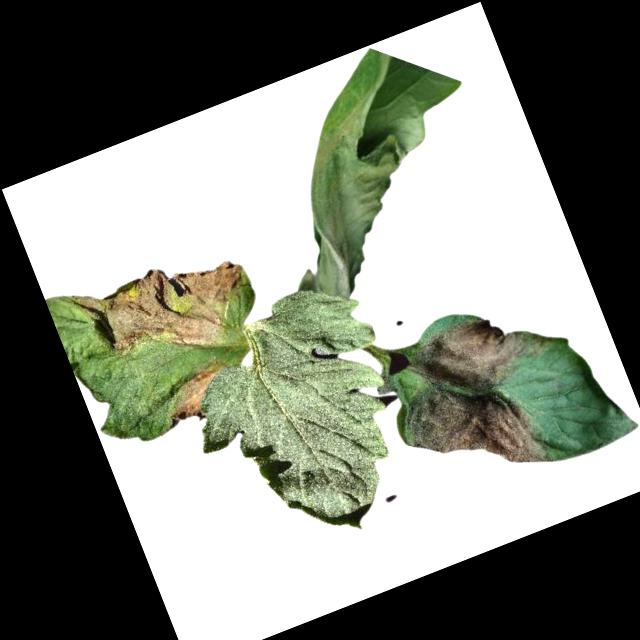Late_blight: (240, 22, 518, 306), (377, 295, 593, 510), (68, 237, 267, 391), (158, 362, 240, 429)
